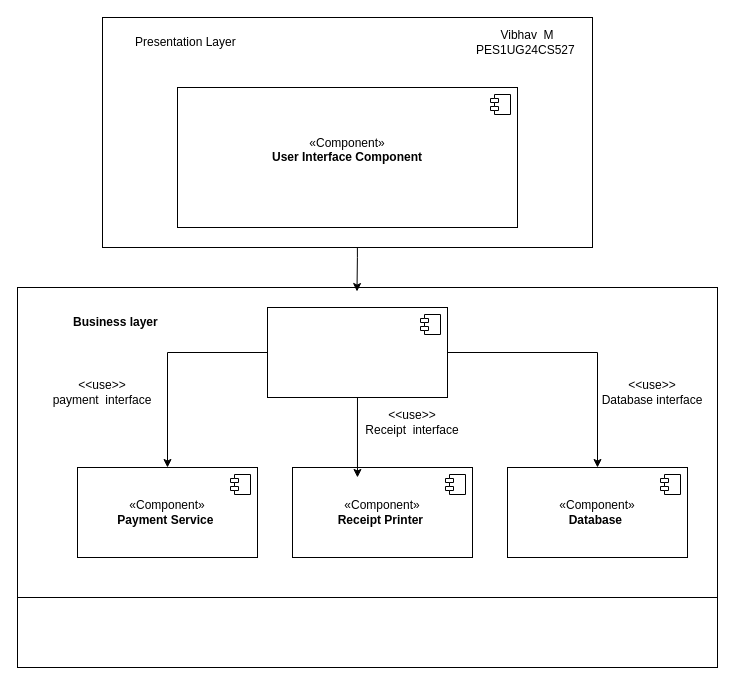
Image size: 735x685. Some labels were removed from this diagram. The shapes that lost their labels are listed below. From the top down, each one's box as (x1, y1, x2, y2) in pixels, then its label:
(266, 306, 448, 398): «Component» Order management
(16, 596, 718, 668): Data layer
